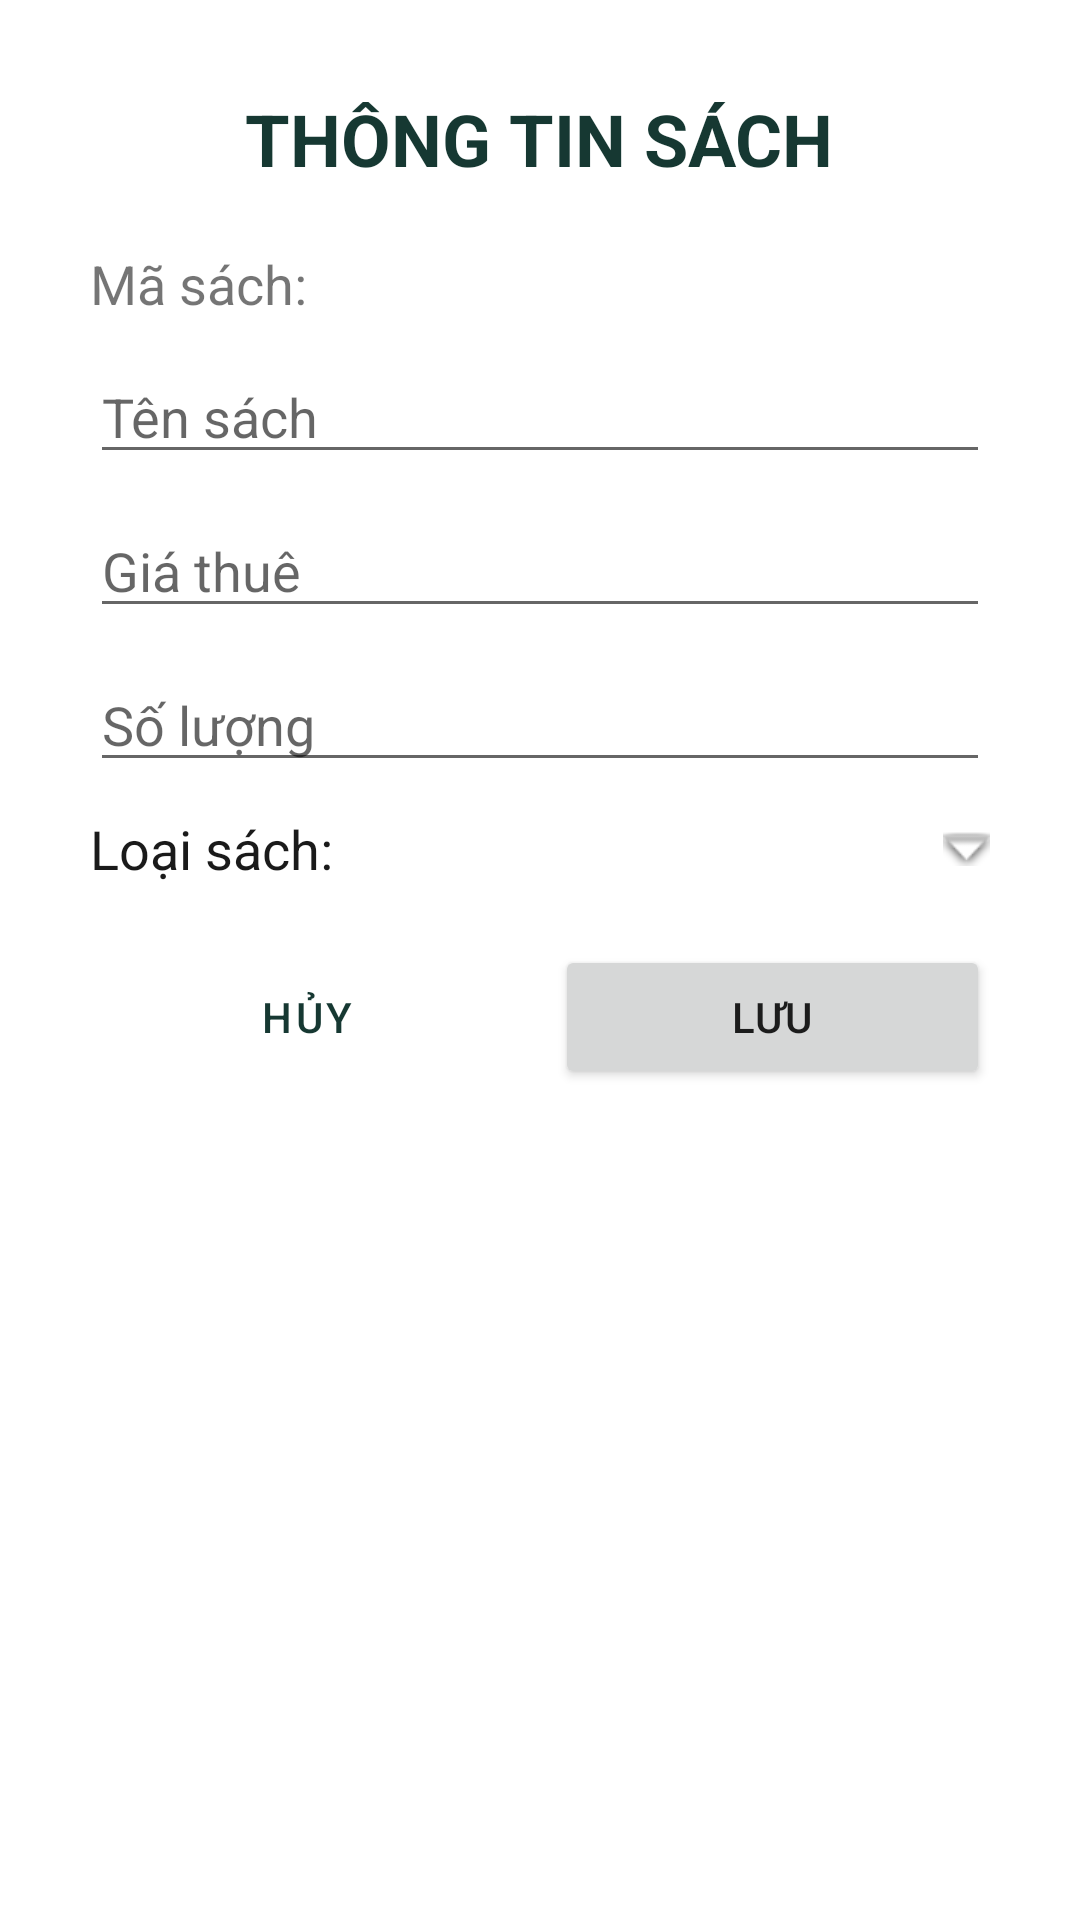

Icons on this 1080 × 1920 Android screen, each with the point to tap as (x,y):
arrow down float: (966,849)
